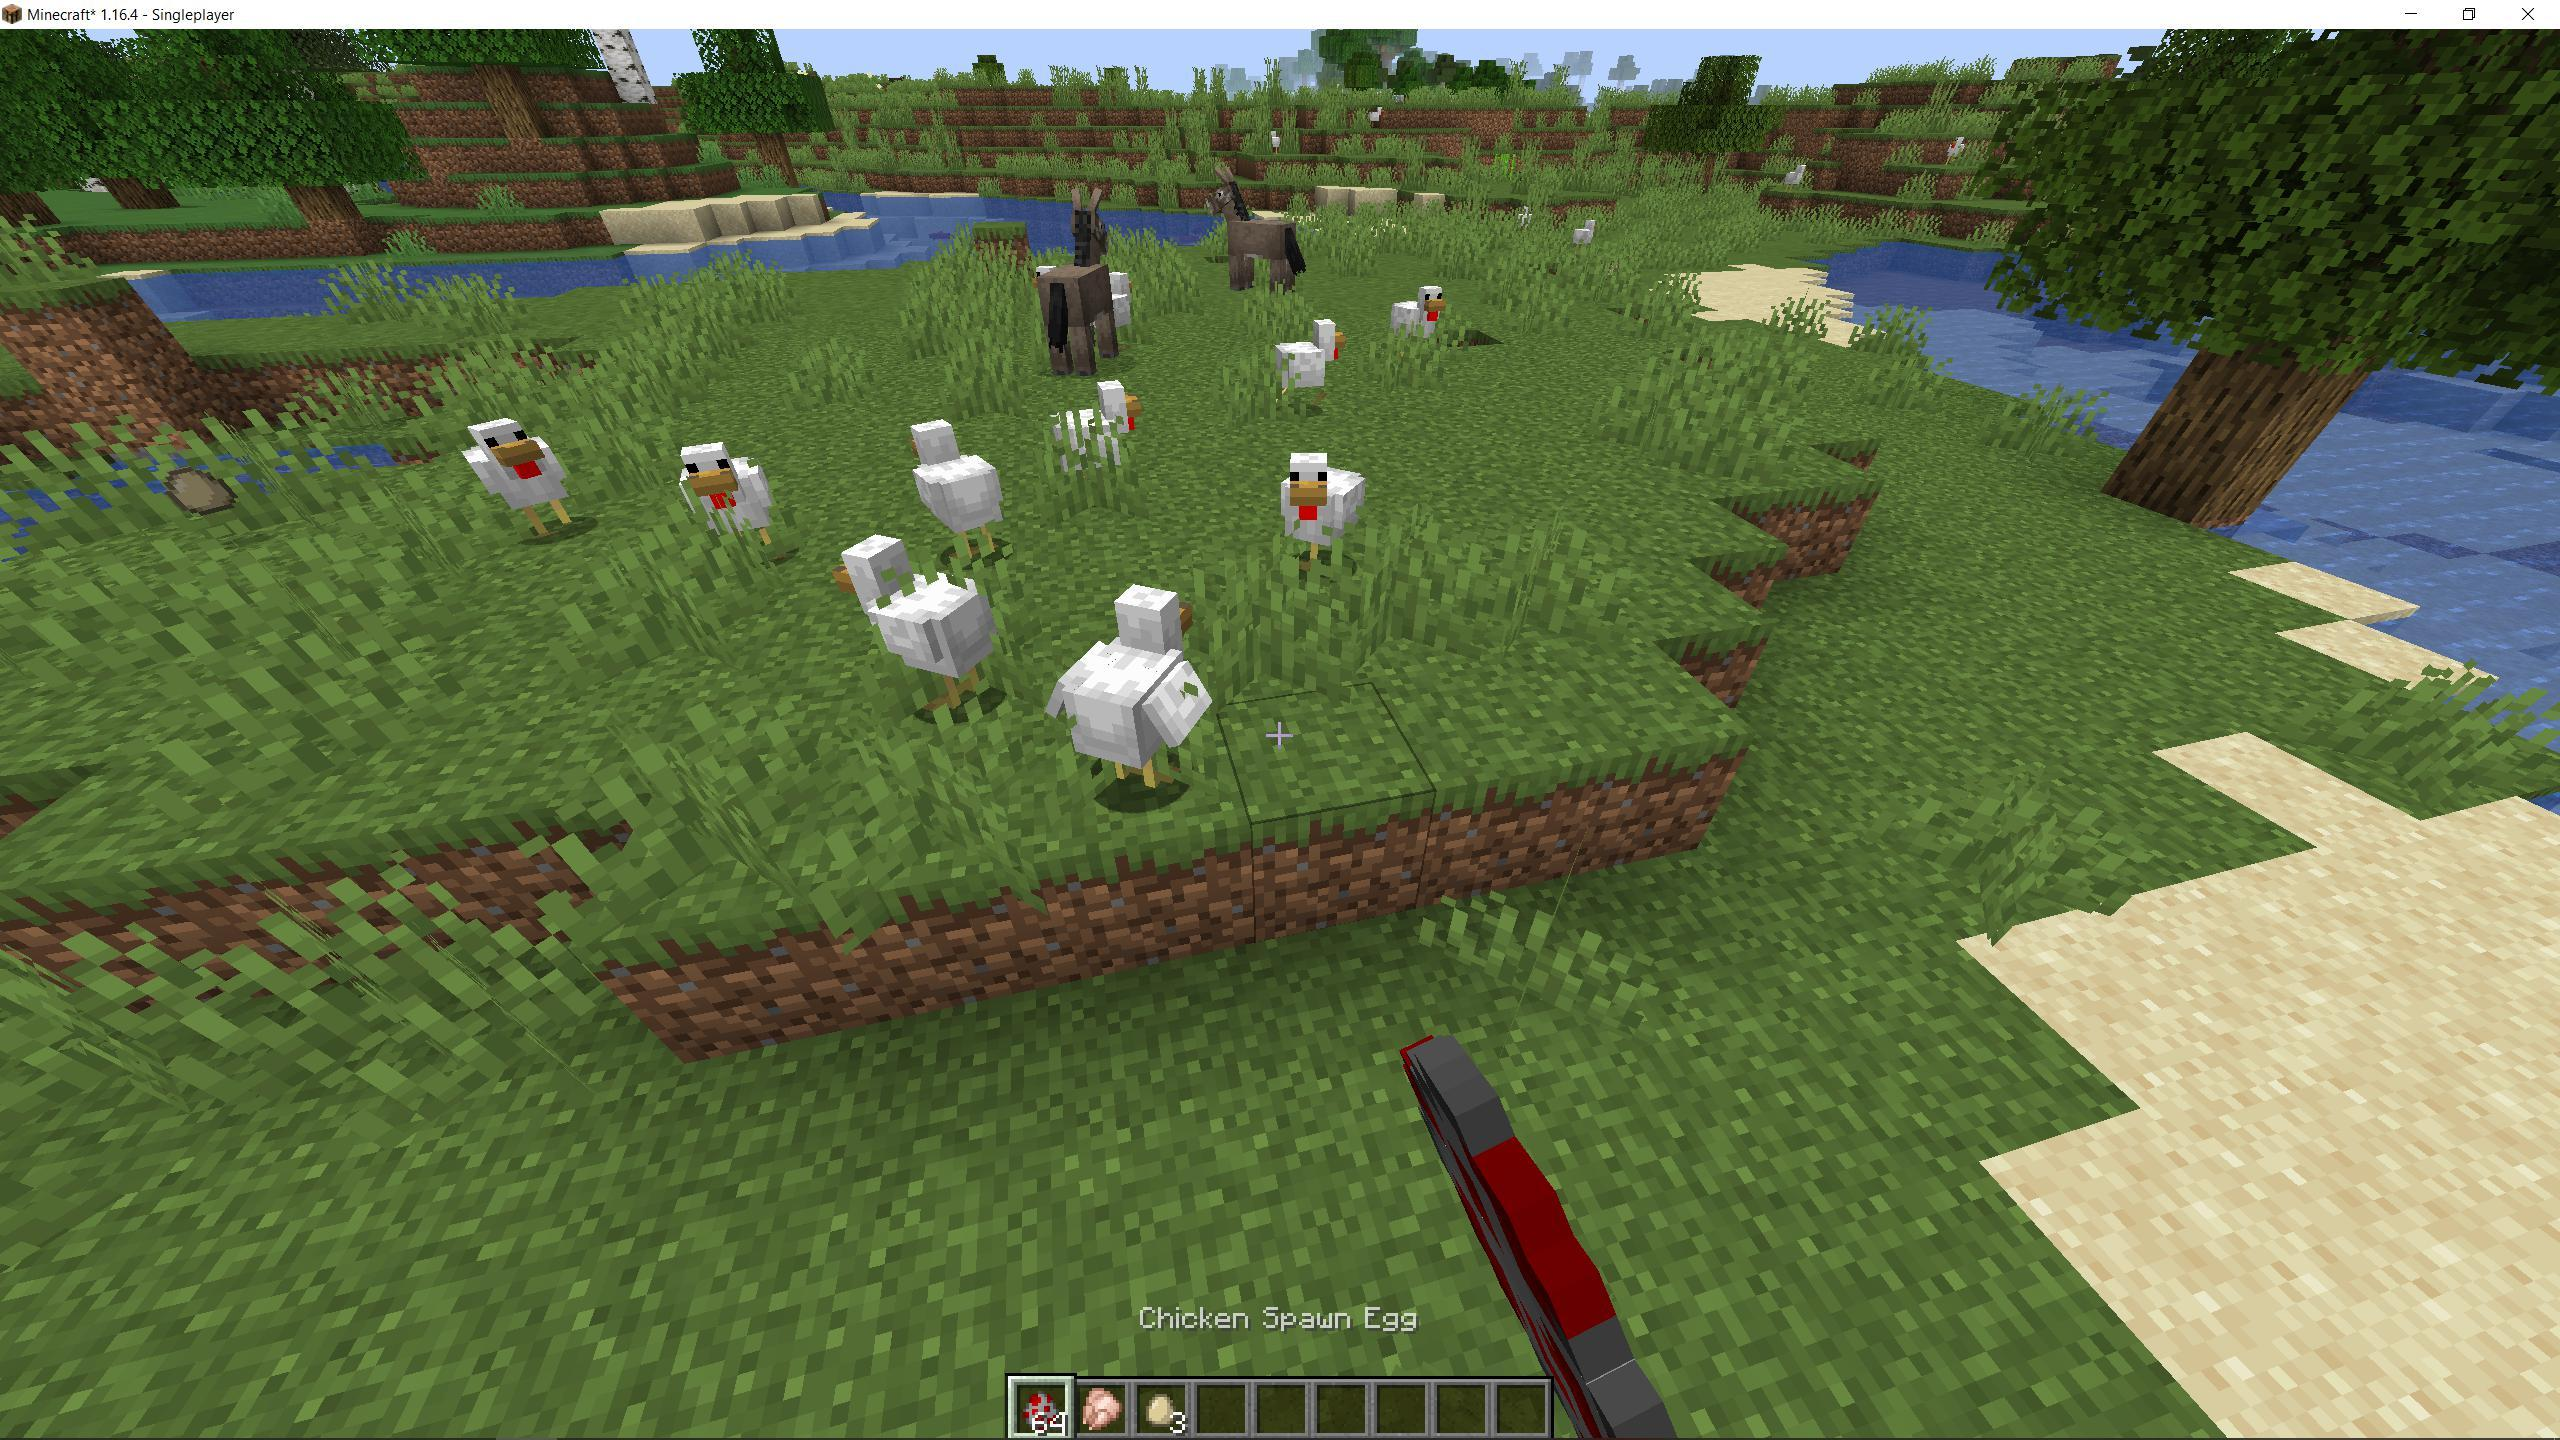chicken: (1053, 585, 1217, 796), (833, 529, 1007, 723), (459, 410, 584, 547), (904, 415, 1015, 545), (673, 438, 782, 559), (1273, 448, 1370, 571), (1046, 375, 1141, 489), (1271, 318, 1345, 408), (1389, 280, 1447, 343)
